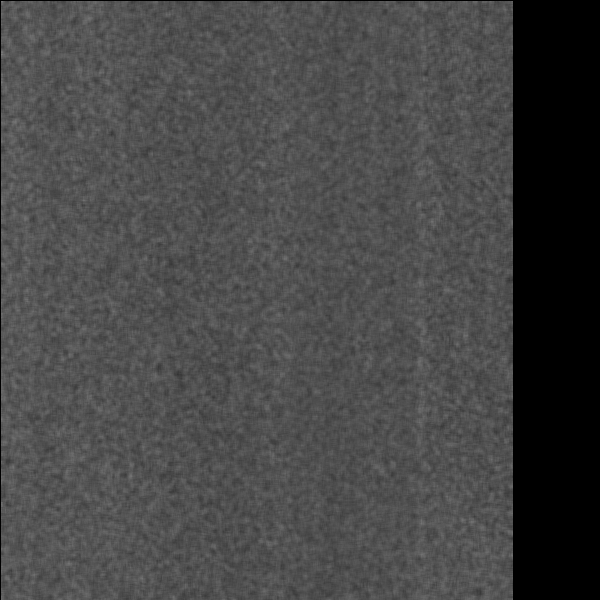spark: (346, 141, 387, 221), (187, 354, 221, 424), (357, 492, 399, 540), (130, 554, 160, 600)
